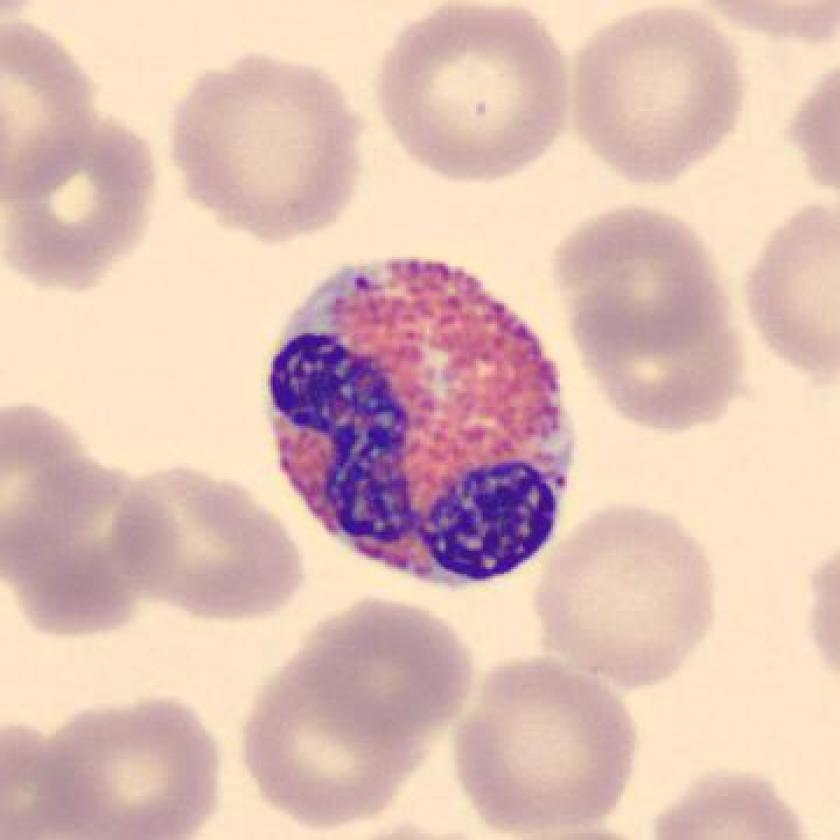eosinophil: (251, 246, 589, 598)
